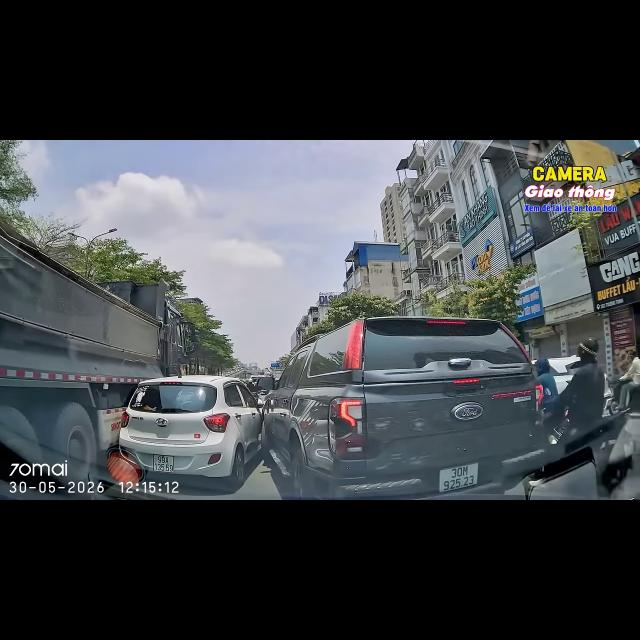car: (263, 317, 545, 498), (119, 375, 262, 488), (547, 355, 580, 393)
motorcycle: (584, 414, 637, 493), (608, 380, 630, 414), (548, 410, 569, 444), (252, 392, 263, 406)
truck: (0, 223, 197, 480)
